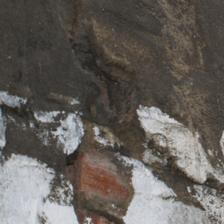Crack: (65, 9, 138, 125), (61, 141, 94, 224)
